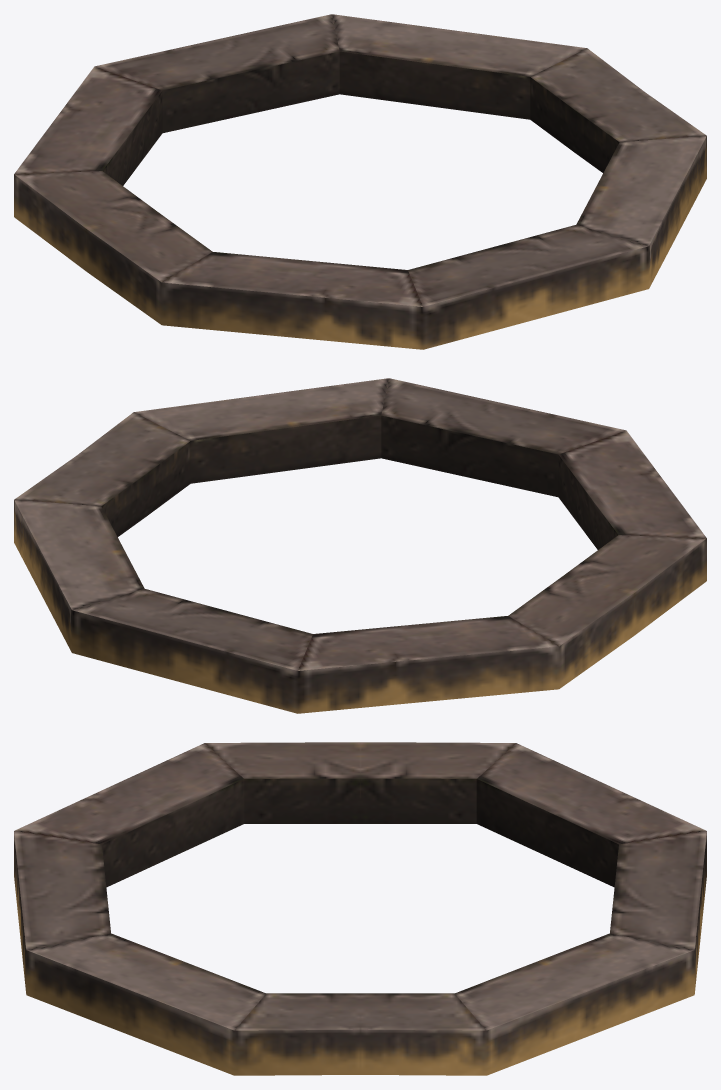
Rendered from 10401_BigGunBase.FBX.
3 views of the same model, one above another, from view 1: azimuth 30°, elevation 25°; view 2: azimuth 150°, elevation 25°; view 3: azimuth 270°, elevation 25° (orthographic). The views are drawn at different scales.
Parts seen in each view (by area): view 1: Object001; view 2: Object001; view 3: Object001.
Boxes of the visible parts, <box> form: Object001: <box>14,14,706,349</box>; Object001: <box>14,378,706,713</box>; Object001: <box>14,742,706,1075</box>.
Size of the model in its own units: 415 by 30.25 by 421.
